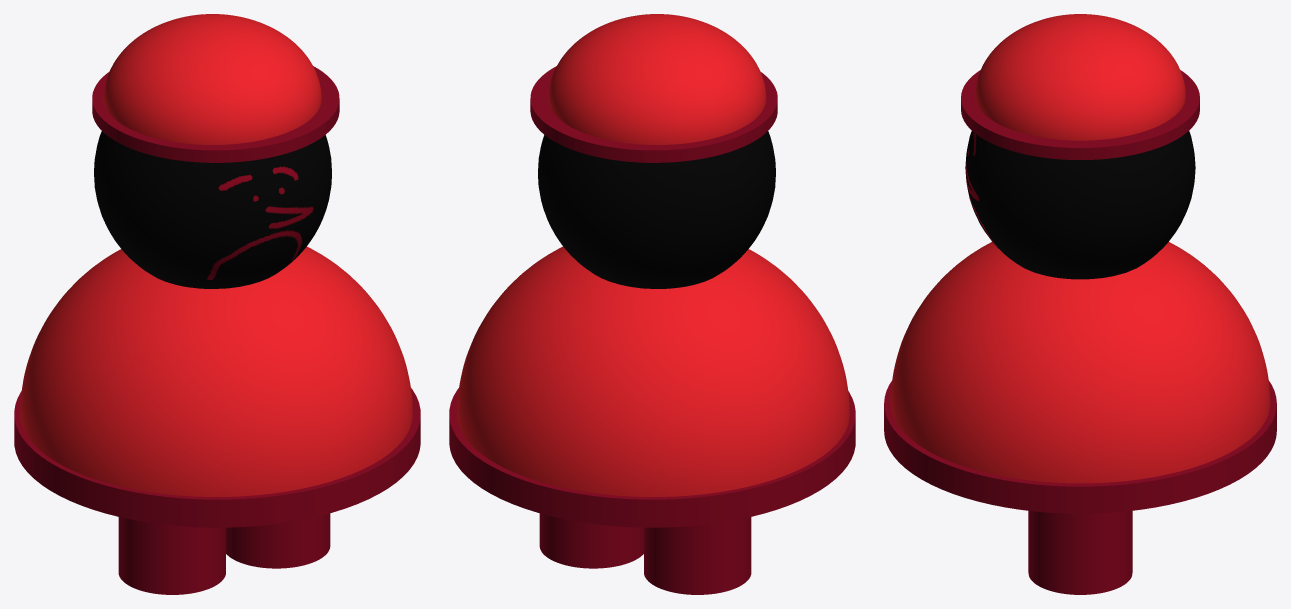
Rendered from exbungo.fbx.
3 renders of one model, left to right at view 1: azimuth 30°, elevation 25°; view 2: azimuth 150°, elevation 25°; view 3: azimuth 270°, elevation 25°, orthographic. The views are drawn at different scales.
Parts seen in each view (by area): view 1: root (×7); view 2: root (×7); view 3: root (×6).
Part boxes in pixels (x1,y1,x2,y2): root (×7): [14, 14, 420, 594]; root (×7): [449, 14, 855, 594]; root (×6): [884, 14, 1276, 594].
Bounding box in the file's own units: 0.3461 × 0.5023 × 0.3461.
Materials: 6 (1 with a texture image).
